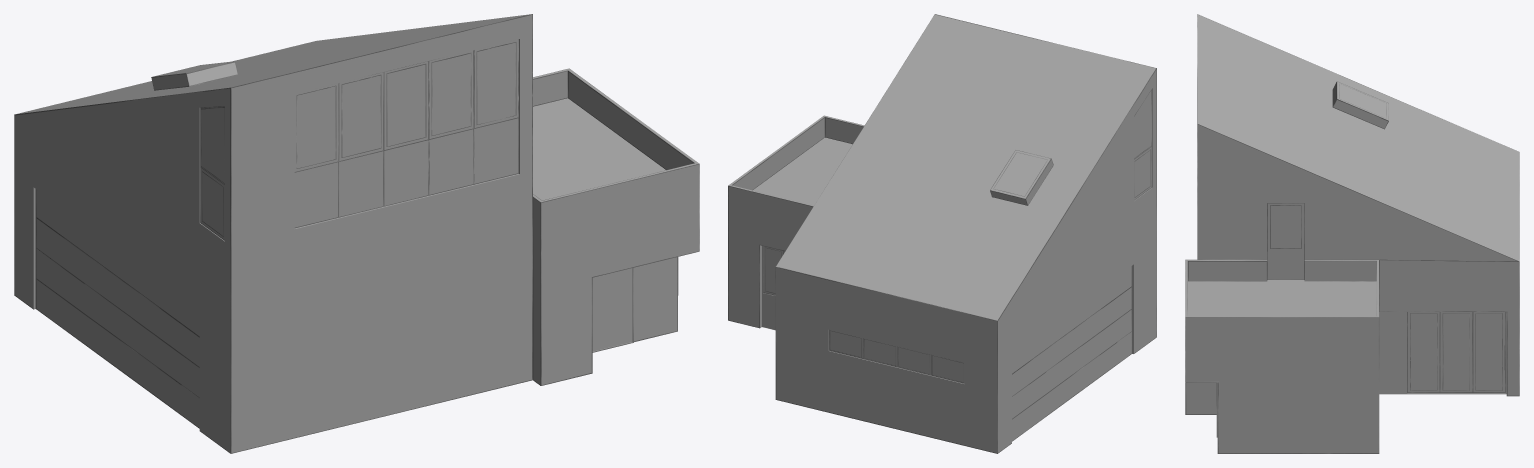
The model's file is house_stylized_v2.glb.
3 renders of one model, left to right at view 1: azimuth 30°, elevation 25°; view 2: azimuth 150°, elevation 25°; view 3: azimuth 270°, elevation 25°, orthographic. The views are drawn at different scales.
Parts seen in each view (by area): view 1: house.001; view 2: house.001; view 3: house.001.
Boxes of the visible parts, bbox=[...] form: house.001: bbox=[14, 14, 699, 453]; house.001: bbox=[728, 14, 1156, 453]; house.001: bbox=[1185, 14, 1519, 453].
Size of the model in its own units: 9.08 by 6.89 by 7.66.
Materials: 2 (1 with a texture image).
